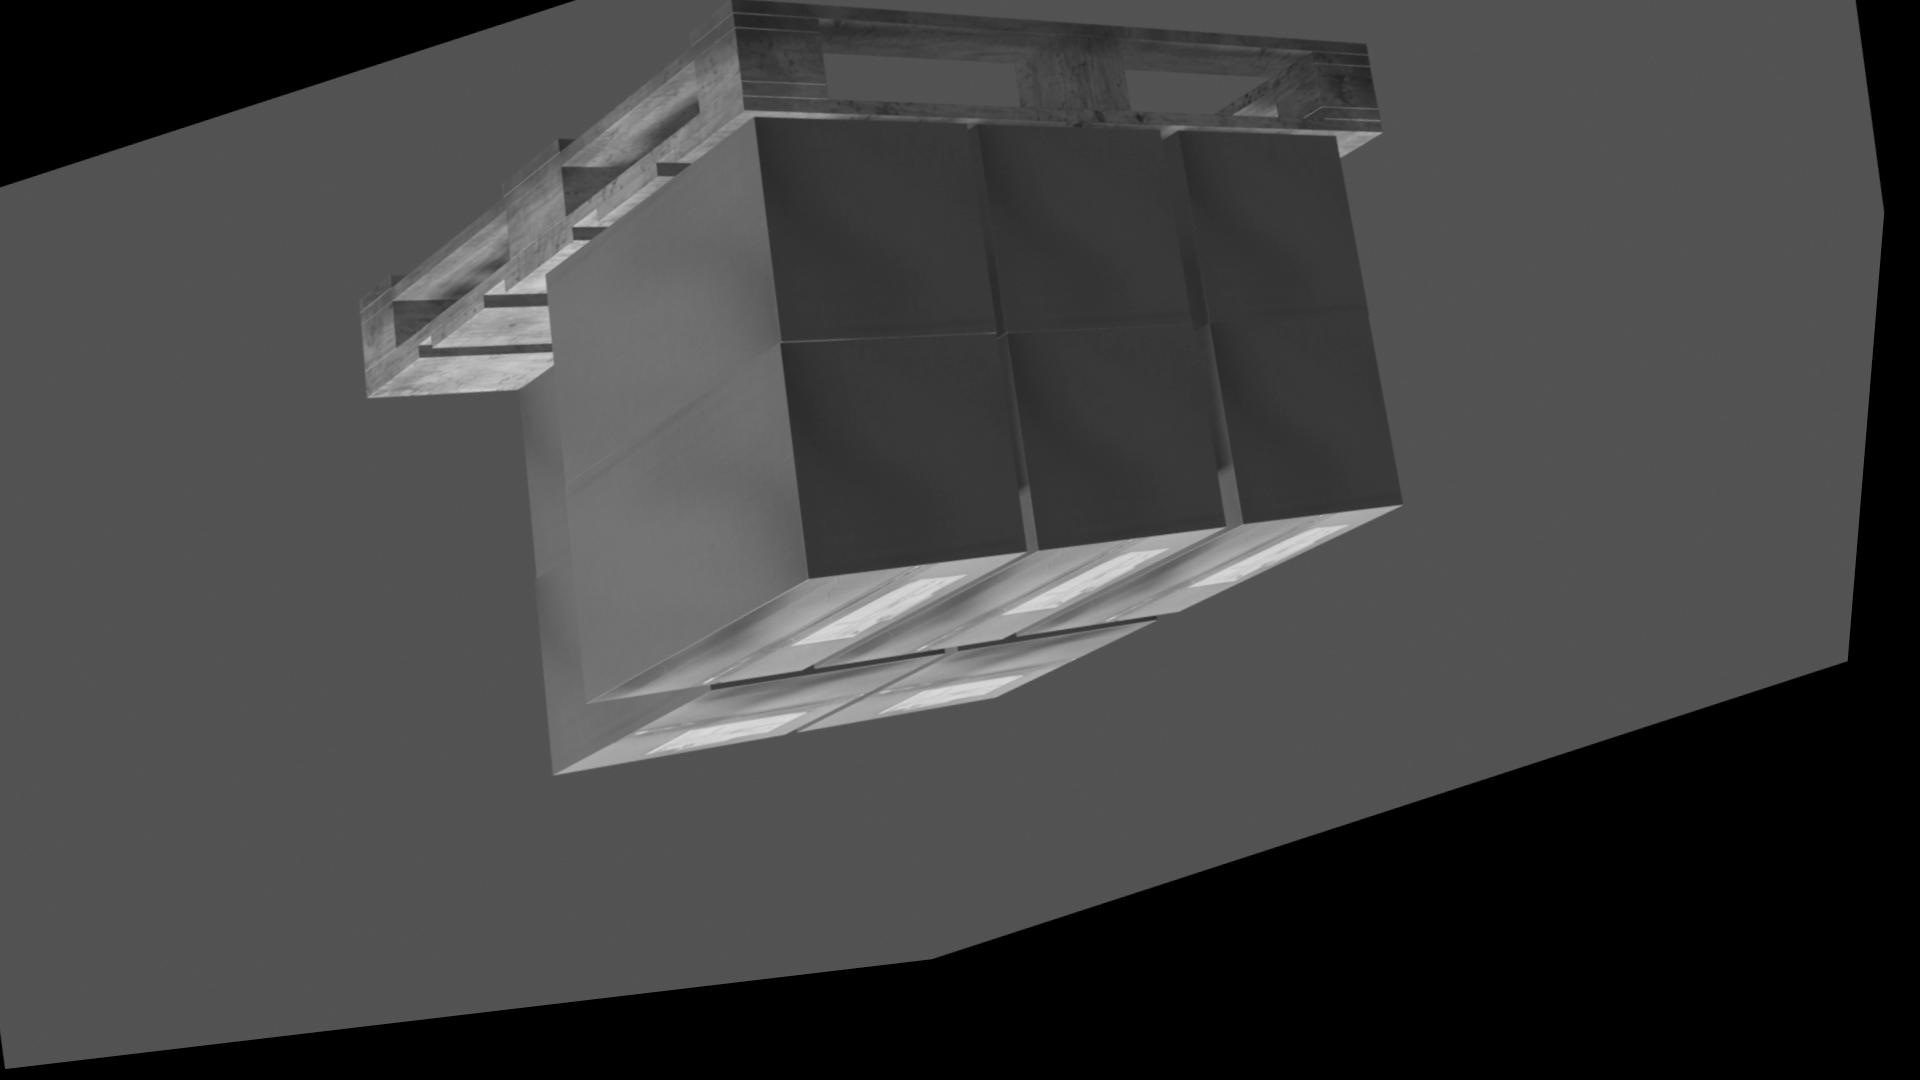group_box_left: (575, 360, 1039, 720), (553, 136, 1004, 496), (1005, 356, 1238, 582), (973, 149, 1199, 364), (1205, 349, 1415, 560), (1168, 160, 1378, 359), (545, 571, 725, 790), (527, 378, 582, 592)
group_box_top: (601, 579, 1036, 719), (829, 559, 1236, 688), (1031, 541, 1414, 662), (570, 678, 959, 789), (816, 655, 1163, 752)
palet: (363, 15, 1387, 410)
